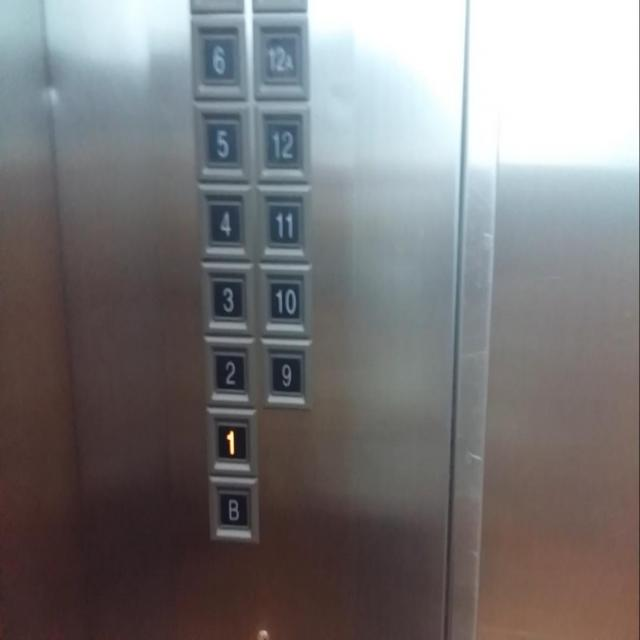1: (205, 403, 258, 479)
10: (257, 260, 314, 338)
11: (253, 182, 313, 264)
12: (252, 97, 312, 188)
12A: (250, 13, 312, 95)
2: (204, 333, 255, 410)
3: (200, 258, 255, 338)
4: (198, 180, 254, 262)
5: (193, 99, 252, 185)
6: (189, 9, 248, 101)
9: (259, 332, 314, 413)
B: (207, 471, 262, 545)
